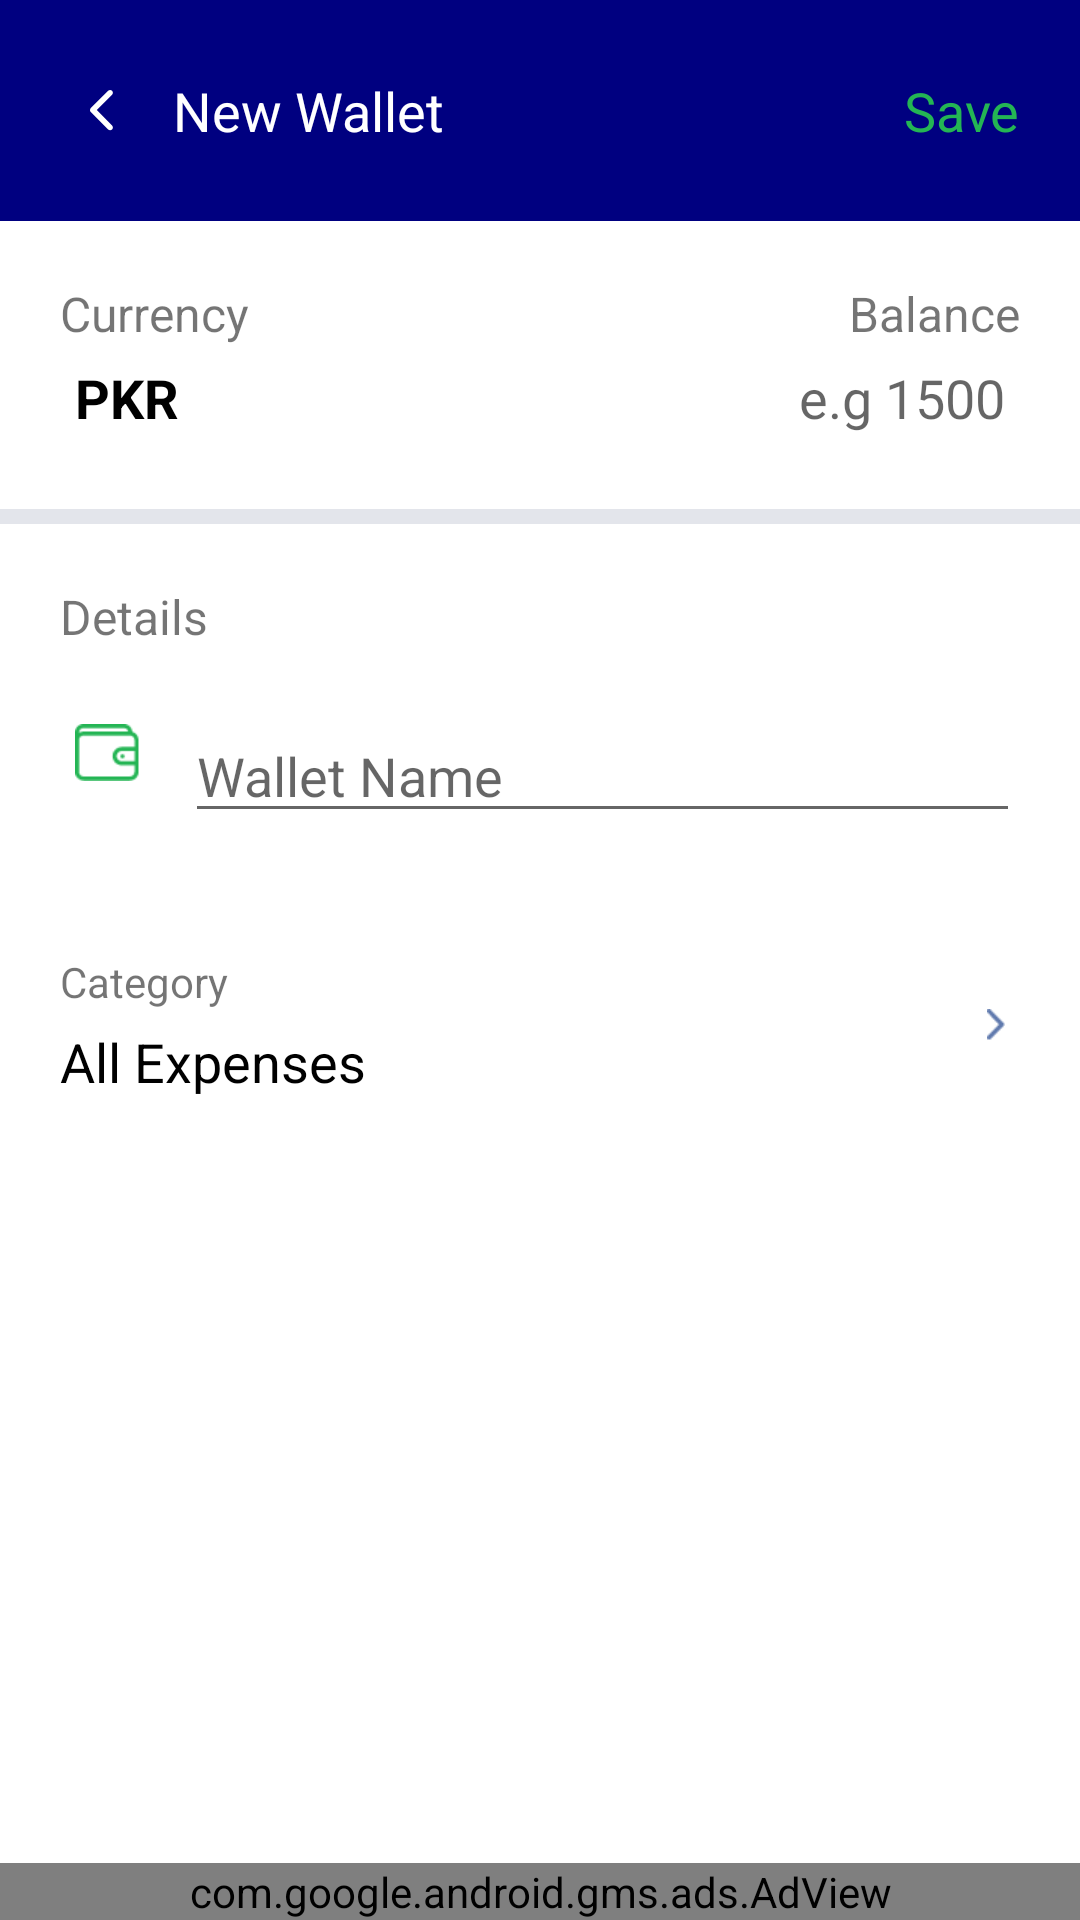

Screen size 1080x1920. Icon name, then its box in pixels as (x1, y1, x2, y2):
back: (90, 90, 113, 131)
forward arrow: (987, 1009, 1005, 1040)
